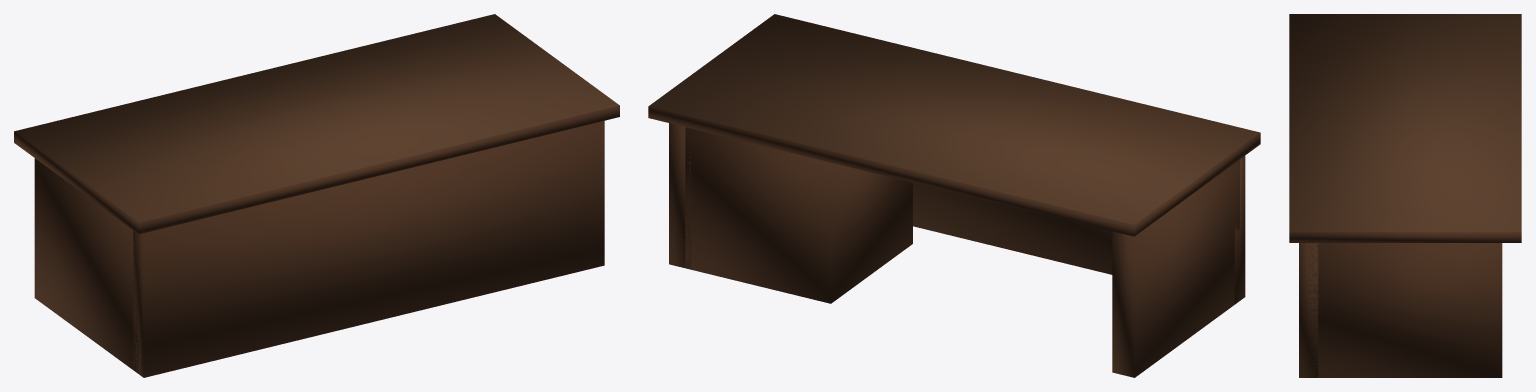
Rendered from Meja_Bos.fbx.
The picture shows the model from 3 angles, left to right: view 1: azimuth 30°, elevation 25°; view 2: azimuth 150°, elevation 25°; view 3: azimuth 270°, elevation 25°; orthographic projection. The views are drawn at different scales.
Parts seen in each view (by area): view 1: Meja_Bos; view 2: Meja_Bos; view 3: Meja_Bos.
Part boxes in pixels (x1,y1,x2,y2): Meja_Bos: (14, 14, 619, 377); Meja_Bos: (648, 14, 1260, 377); Meja_Bos: (1289, 14, 1521, 377).
Size of the model in its own units: 2.4 by 0.77 by 1.08.
